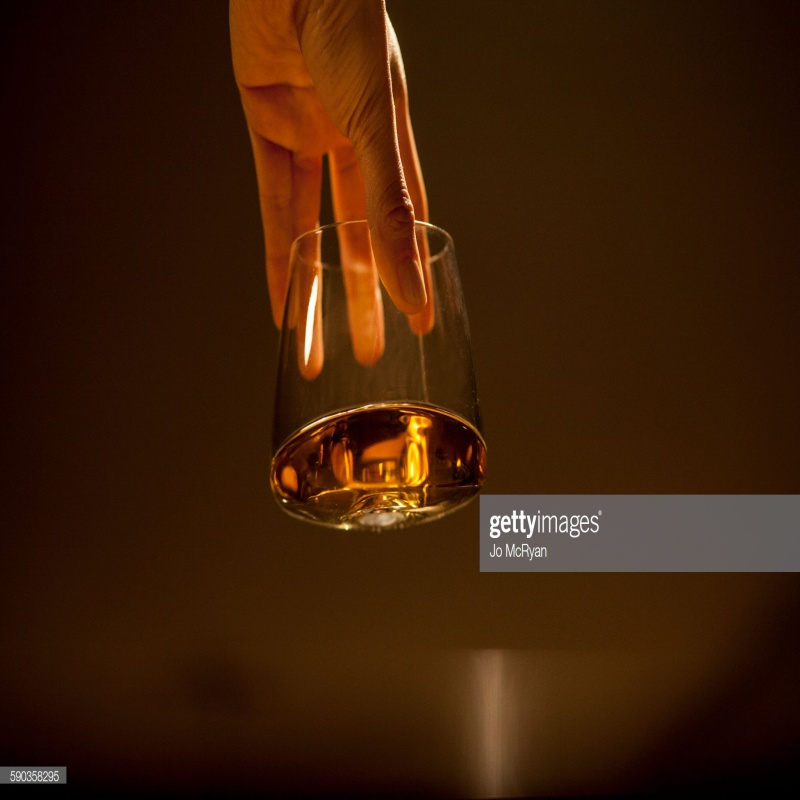whiskey: (260, 218, 492, 548)
